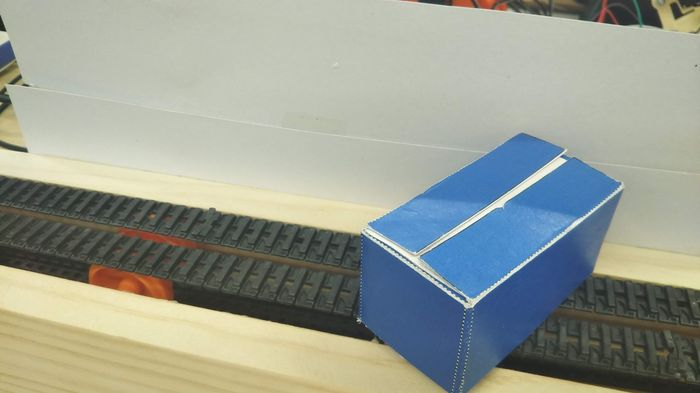box3: (355, 131, 625, 393)
